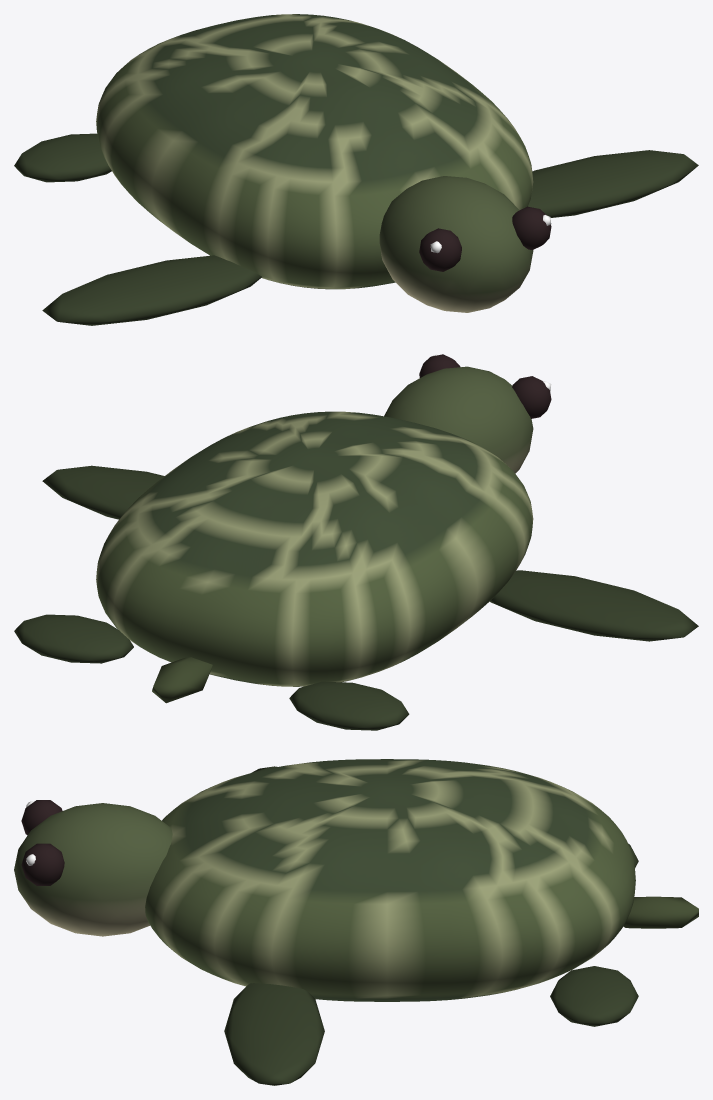
File: critter_turtle.glb
The picture shows the model from 3 angles, top to bottom: view 1: azimuth 30°, elevation 25°; view 2: azimuth 150°, elevation 25°; view 3: azimuth 270°, elevation 25°; orthographic projection.
Parts seen in each view (by area): view 1: turtle_body, turtle_fin_fl, turtle_fin_fr, turtle_fin_bl, turtle_eye_l, turtle_eye_r; view 2: turtle_body, turtle_fin_fl, turtle_fin_bl, turtle_fin_br, turtle_fin_fr, turtle_eye_l; view 3: turtle_body, turtle_fin_fr, turtle_fin_br, turtle_eye_r, turtle_eye_l.
Boxes of the visible parts, x1,y1,x2,y2 form: turtle_body: (96, 14, 533, 312); turtle_fin_fl: (42, 255, 261, 325); turtle_fin_fr: (528, 150, 698, 217); turtle_fin_bl: (14, 133, 111, 182); turtle_eye_l: (419, 228, 461, 271); turtle_eye_r: (512, 206, 551, 250); turtle_body: (96, 366, 533, 703); turtle_fin_fl: (490, 570, 698, 641); turtle_fin_bl: (289, 681, 409, 730); turtle_fin_br: (14, 614, 133, 663); turtle_fin_fr: (42, 465, 164, 519); turtle_eye_l: (512, 376, 551, 418); turtle_body: (14, 759, 698, 1001); turtle_fin_fr: (224, 983, 324, 1085); turtle_fin_br: (550, 966, 638, 1026); turtle_eye_r: (21, 843, 64, 885); turtle_eye_l: (21, 800, 62, 835).
Bounding box in the file's own units: 0.2517 × 0.068 × 0.2313.
